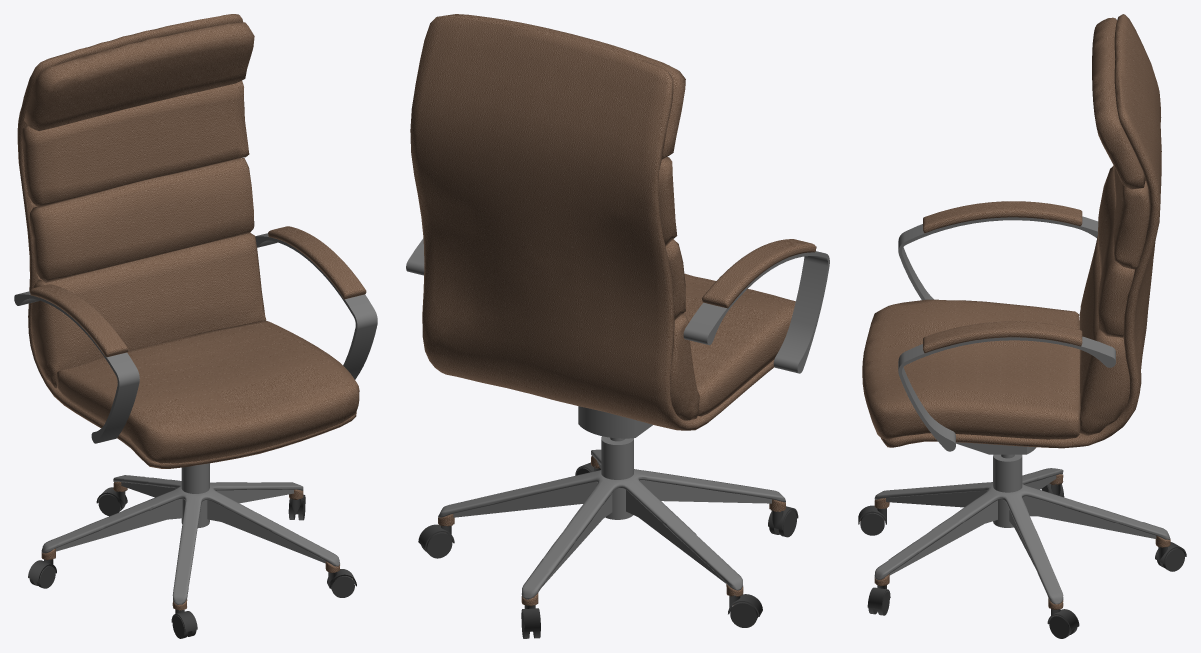
File: 3dmodals16711897958857.fbx
3 renders of one model, left to right at view 1: azimuth 30°, elevation 25°; view 2: azimuth 150°, elevation 25°; view 3: azimuth 270°, elevation 25°, orthographic. The views are drawn at different scales.
Parts seen in each view (by area): view 1: 1; view 2: 1; view 3: 1.
Boxes of the visible parts, x1=… form: 1: x1=14, y1=14, x2=377, y2=638; 1: x1=406, y1=14, x2=829, y2=638; 1: x1=858, y1=14, x2=1186, y2=638.
Size of the model in its own units: 0.8828 by 1.47 by 0.8519.
Materials: 3 (1 with a texture image).
